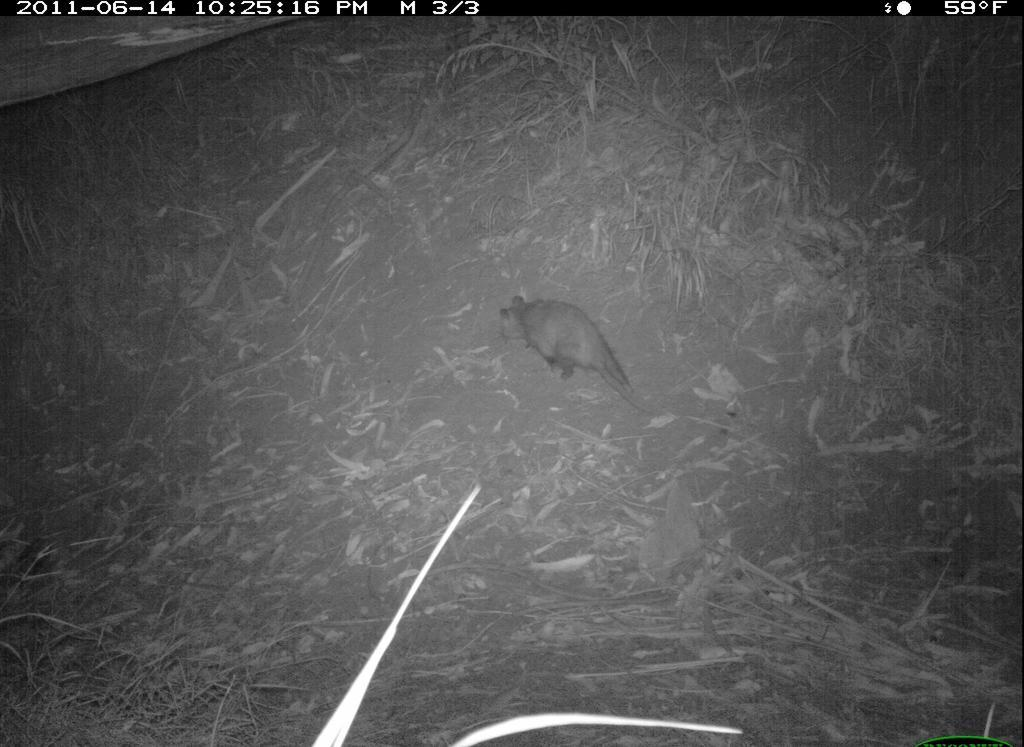opossum: (493, 283, 696, 434)
